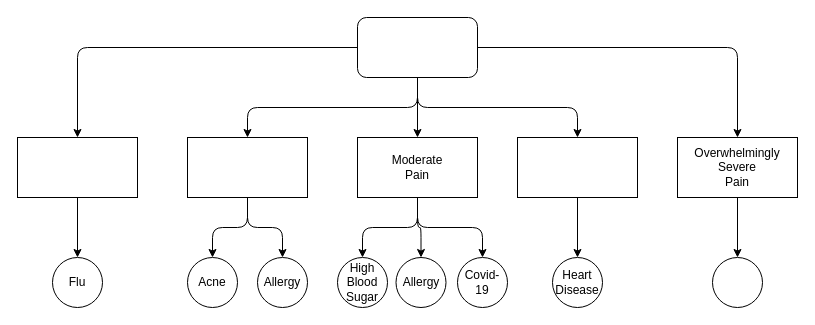
This 815x325 diagram has some shape labels left out. The centre of each missing label's shape, as x and y in pixels:
Cancer: the point at 737,282
Mild Pain: the point at 247,167
Pain Free: the point at 77,167
Patient's Response: the point at 417,47
Severe Pain: the point at 577,167
